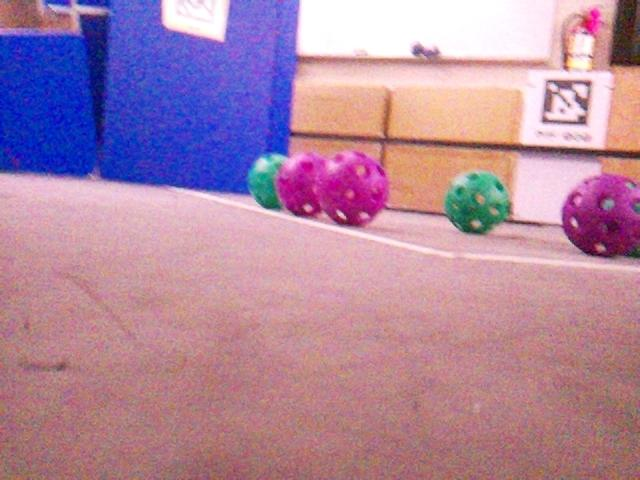Green: (443, 169, 510, 234), (249, 153, 287, 211)
Purple: (560, 173, 637, 257), (316, 151, 390, 228), (277, 152, 331, 216)
